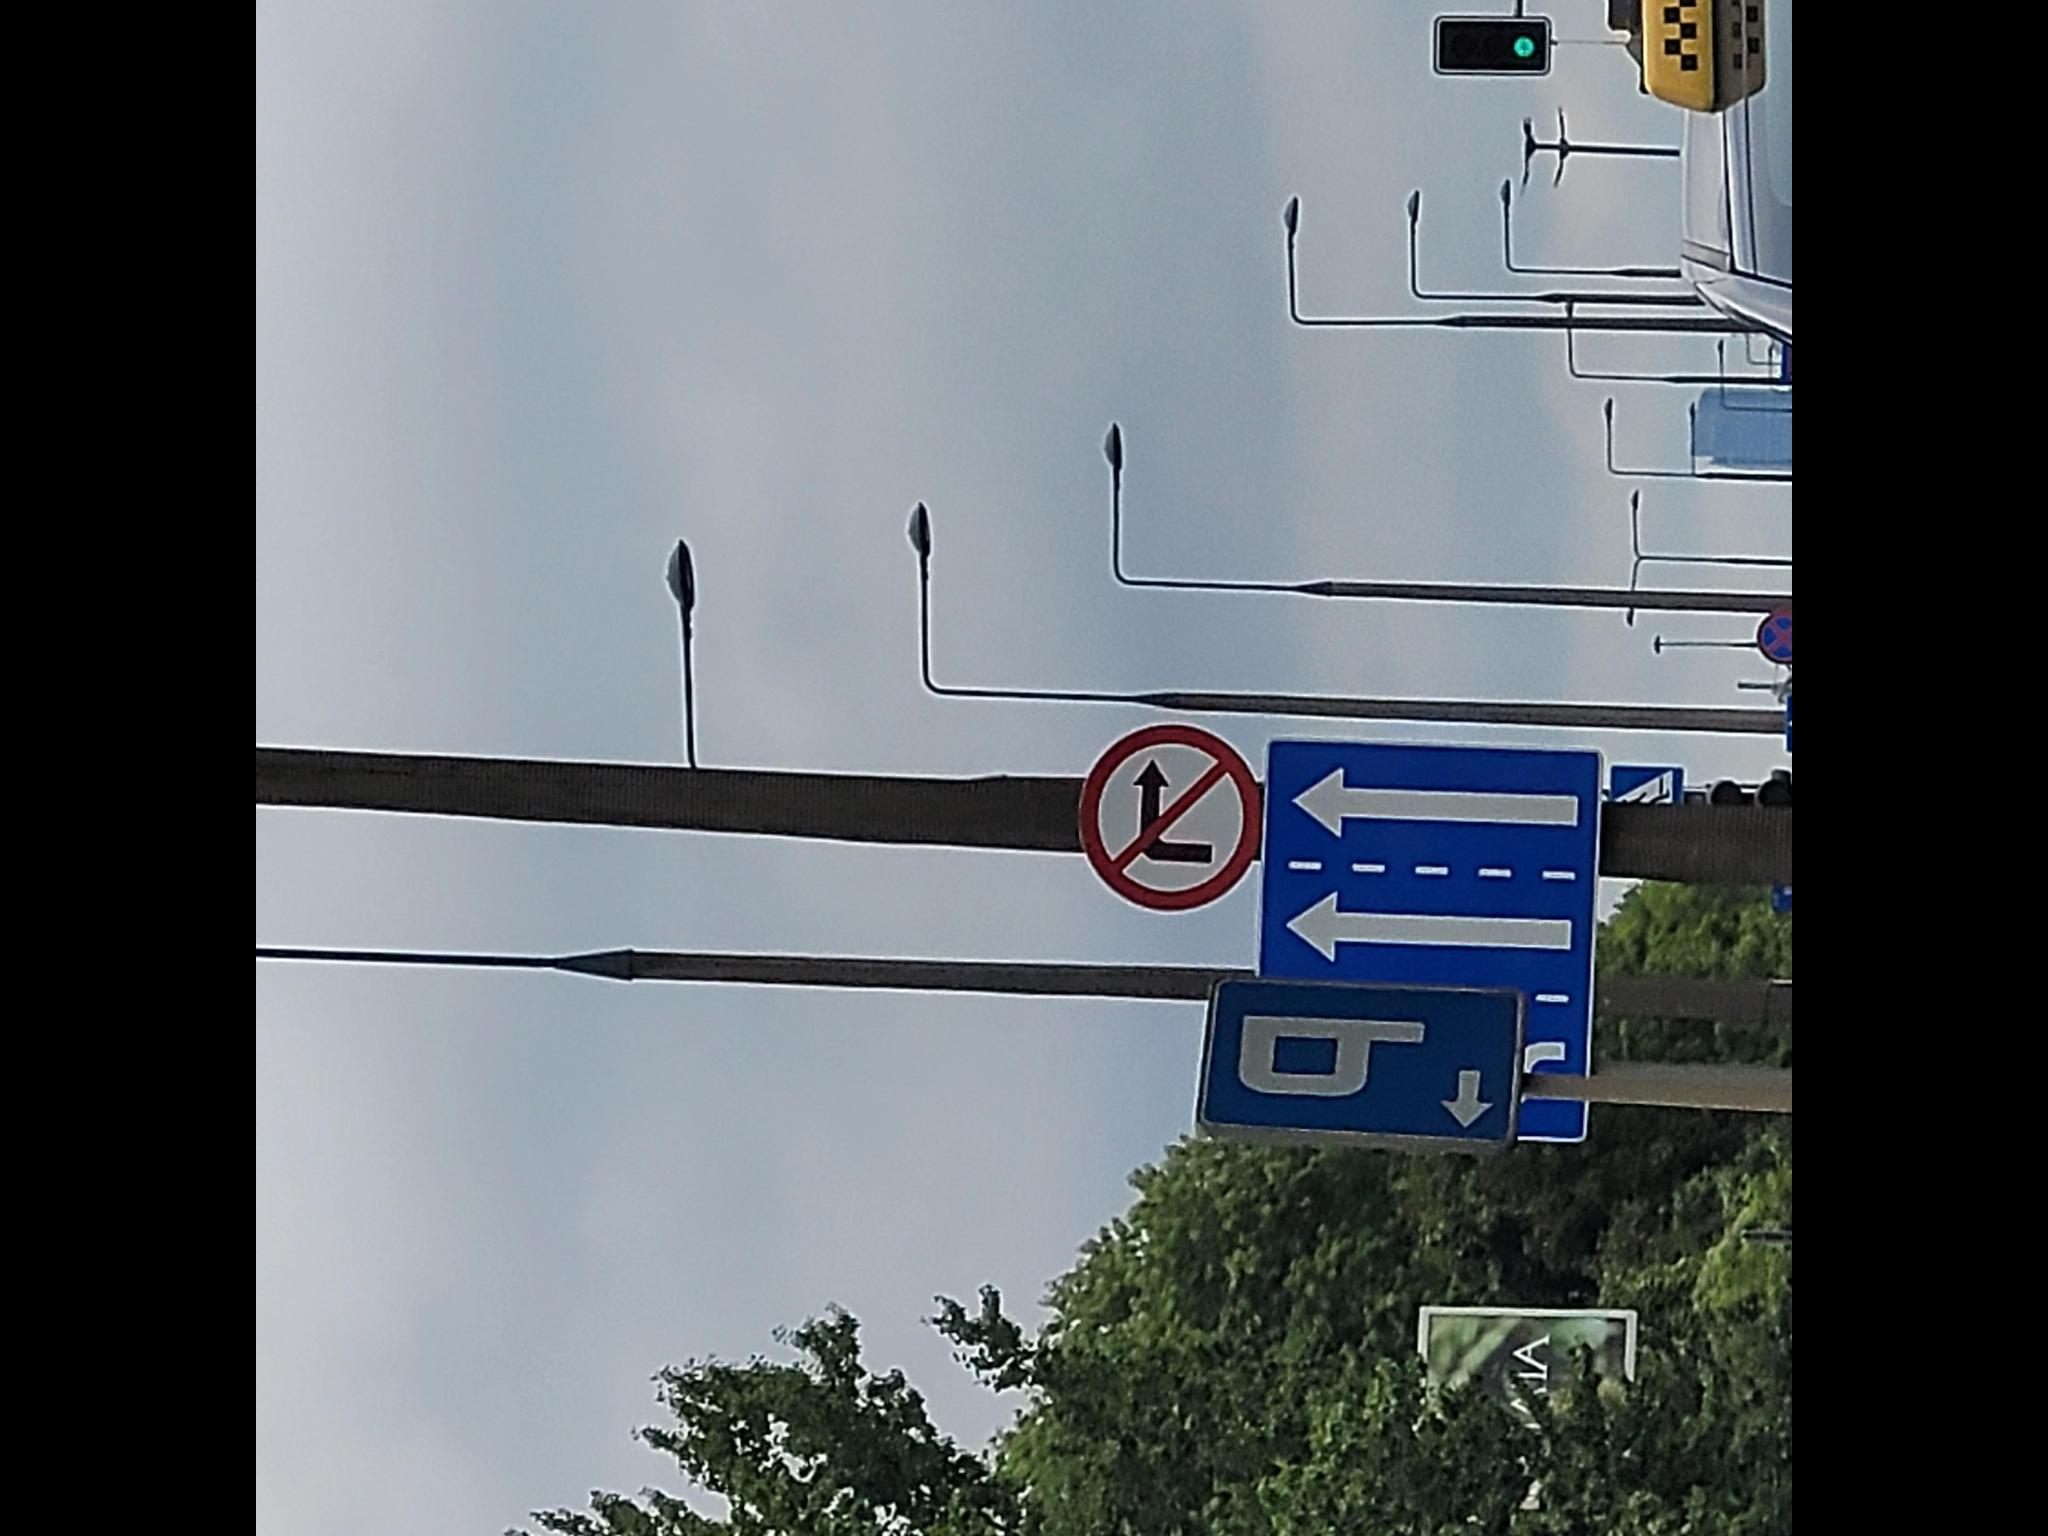information: (1209, 986, 1516, 1147), (1613, 765, 1682, 803)
other: (1269, 739, 1587, 1134)
prohibitory: (1077, 721, 1263, 913), (1756, 608, 1792, 663)
